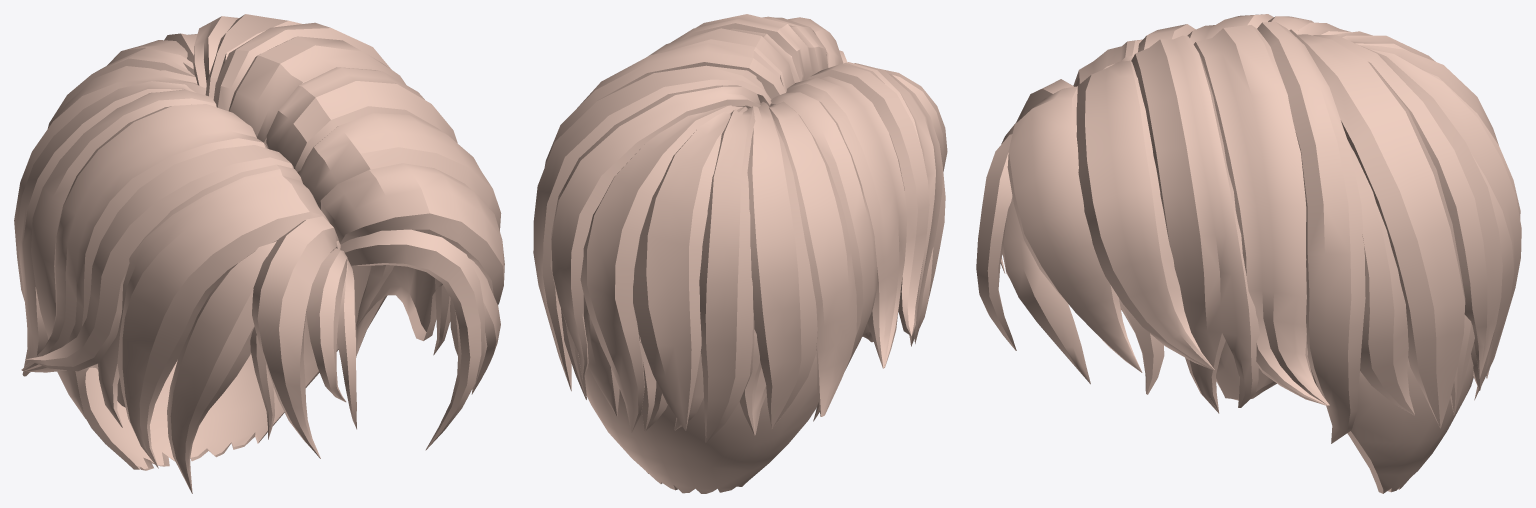
File: Hair_17.fbx
The picture shows the model from 3 angles, left to right: view 1: azimuth 30°, elevation 25°; view 2: azimuth 150°, elevation 25°; view 3: azimuth 270°, elevation 25°; orthographic projection. The views are drawn at different scales.
Visible parts, largest first — view 1: Hair_17; view 2: Hair_17; view 3: Hair_17.
Part boxes in pixels (bbox=[...]): Hair_17: bbox=[14, 14, 504, 493]; Hair_17: bbox=[533, 14, 947, 493]; Hair_17: bbox=[976, 14, 1521, 493].
Bounding box in the file's own units: 2.31 × 2.47 × 2.69.
